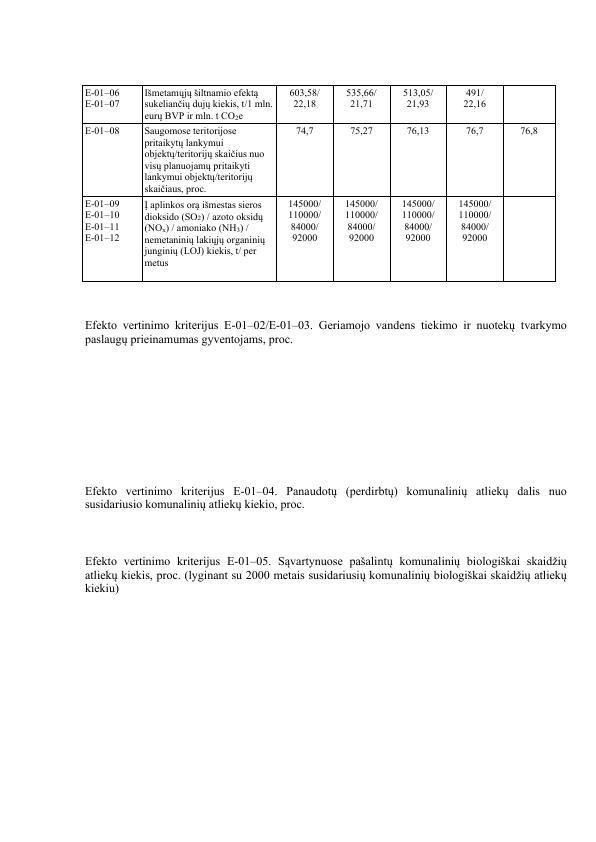table: (78, 81, 560, 287)
text: (82, 553, 573, 597), (83, 315, 569, 354), (82, 479, 570, 517)
